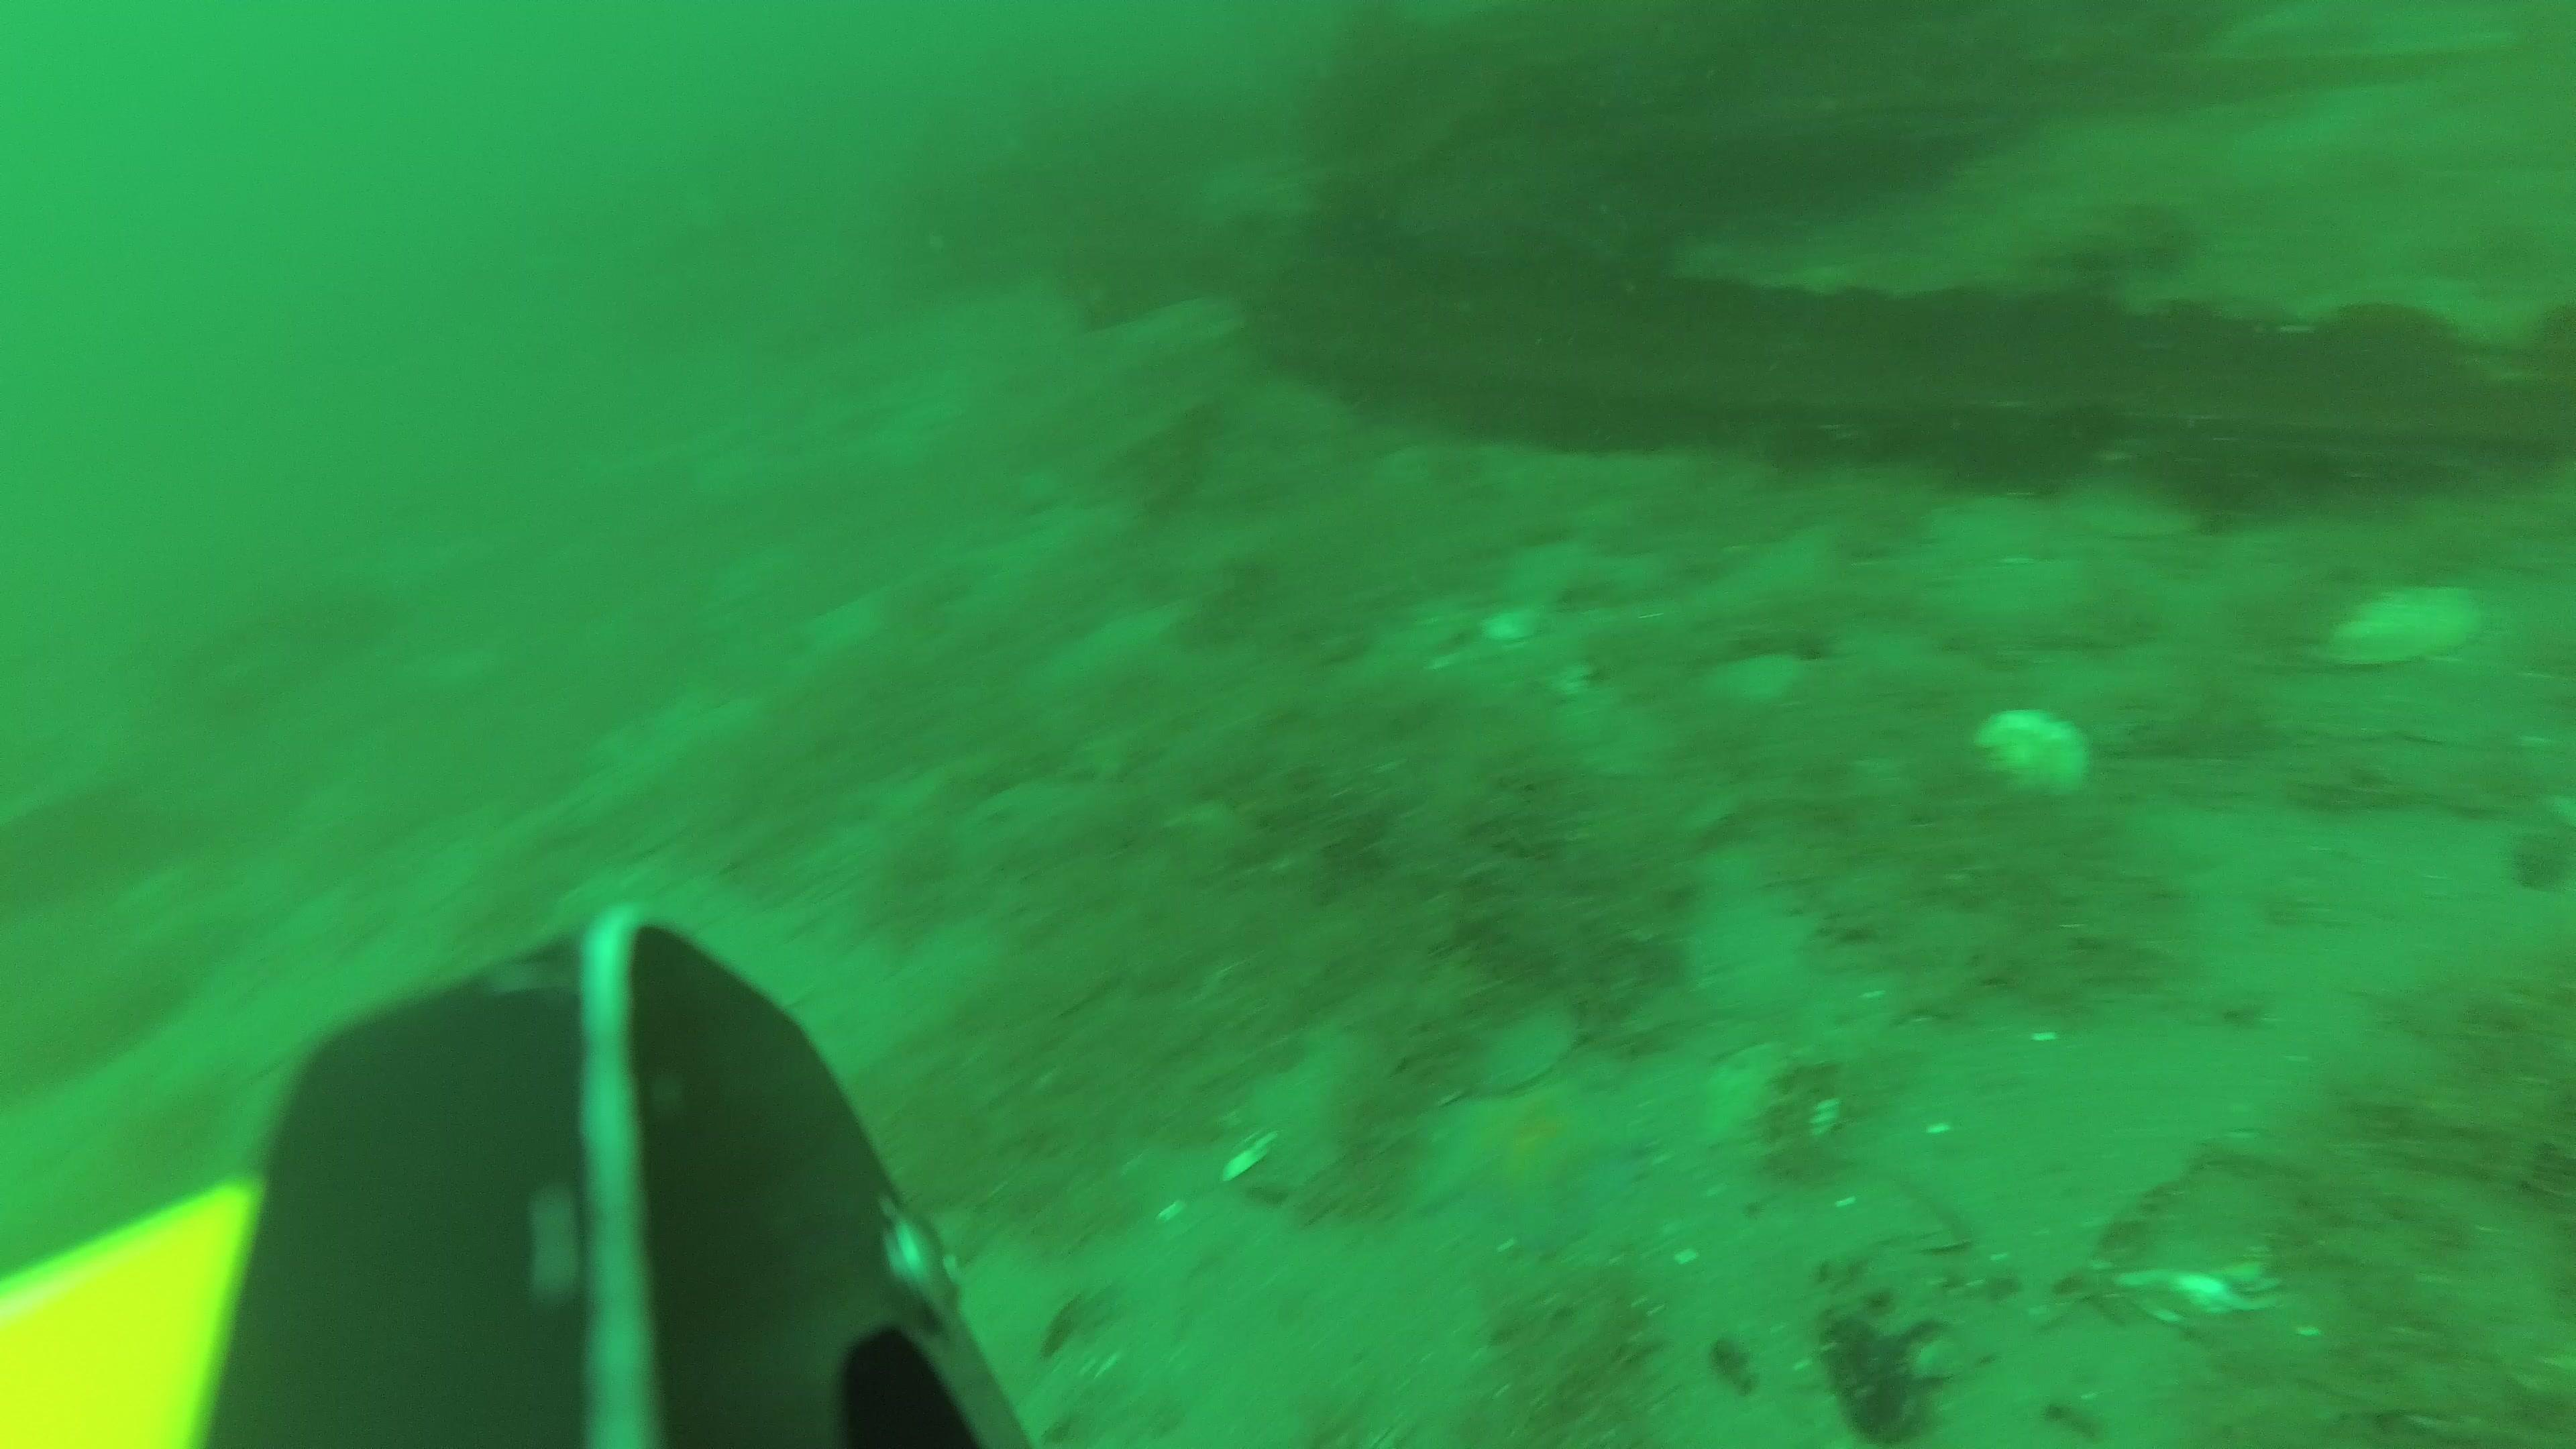scallop: (2312, 580, 2484, 663), (1973, 702, 2088, 794), (2065, 464, 2197, 543)
starfish: (1419, 1062, 1651, 1247)
